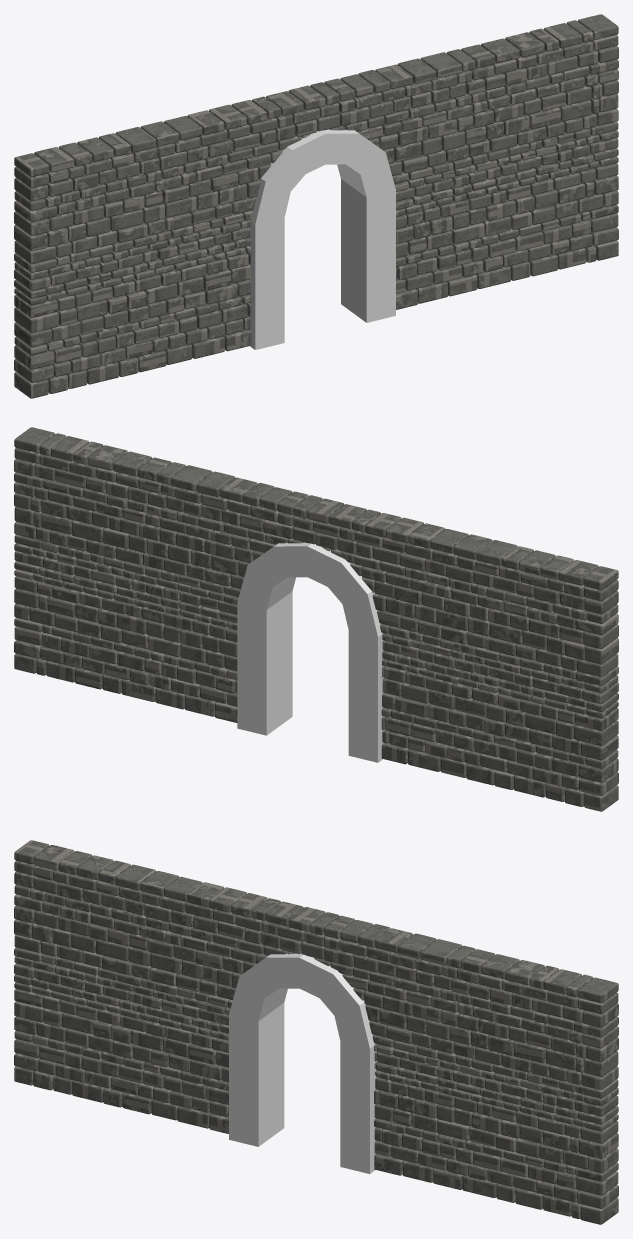
File: CastleWallDoor.fbx
3 views of the same model, one above another, from view 1: azimuth 30°, elevation 25°; view 2: azimuth 150°, elevation 25°; view 3: azimuth 330°, elevation 25° (orthographic).
Visible parts, largest first — view 1: WallDoorORIGINAL..003; view 2: WallDoorORIGINAL..003; view 3: WallDoorORIGINAL..003.
Part boxes in pixels (box(x1,y1,x2,y2)): WallDoorORIGINAL..003: box(14, 14, 618, 398); WallDoorORIGINAL..003: box(14, 427, 618, 811); WallDoorORIGINAL..003: box(14, 840, 618, 1224).
Bounding box in the file's own units: 3996 × 1500 × 304.
Materials: 2 (1 with a texture image).
